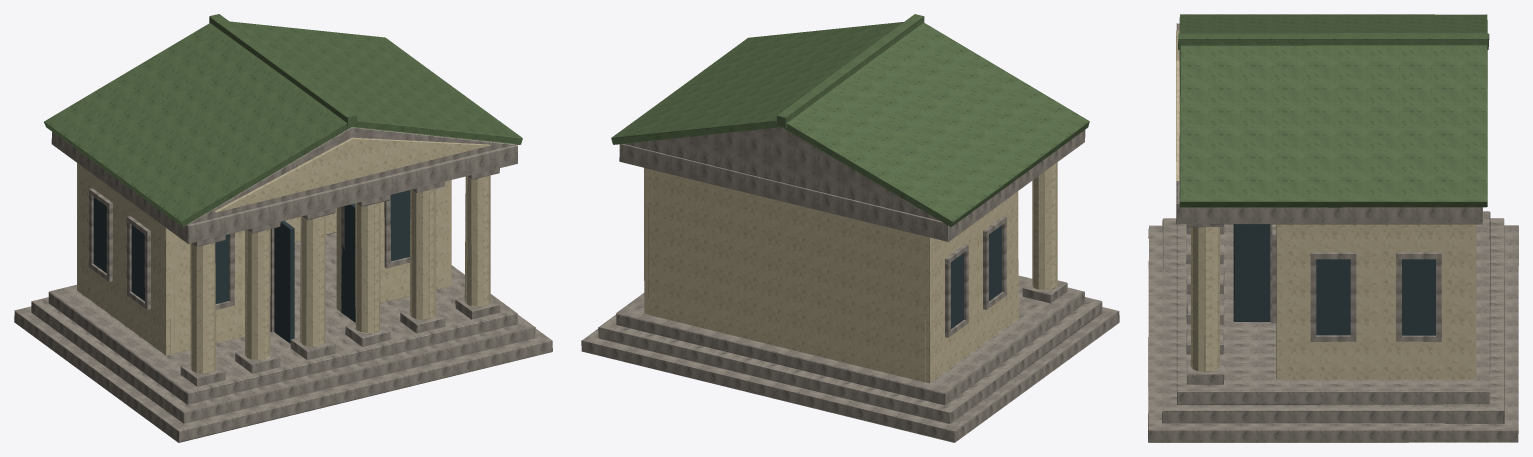
Rendered from museum.glb.
3 views of the same model, side by side, from view 1: azimuth 30°, elevation 25°; view 2: azimuth 150°, elevation 25°; view 3: azimuth 270°, elevation 25° (orthographic). The views are drawn at different scales.
Visible parts, largest first — view 1: Museum; view 2: Museum; view 3: Museum.
Part boxes in pixels (x1=…): Museum: x1=14, y1=14, x2=552, y2=442; Museum: x1=581, y1=14, x2=1119, y2=442; Museum: x1=1148, y1=14, x2=1518, y2=442.
Bounding box in the file's own units: 9.53 × 6.62 × 7.29.
4 materials, 3 textured.
